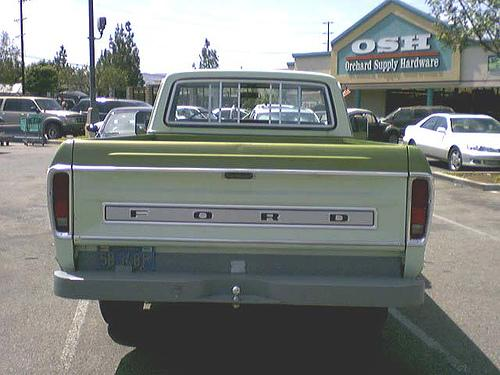truck: (46, 69, 434, 337)
